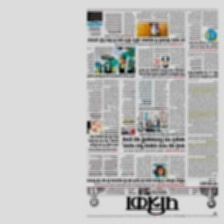news_paper: (85, 6, 218, 219)
